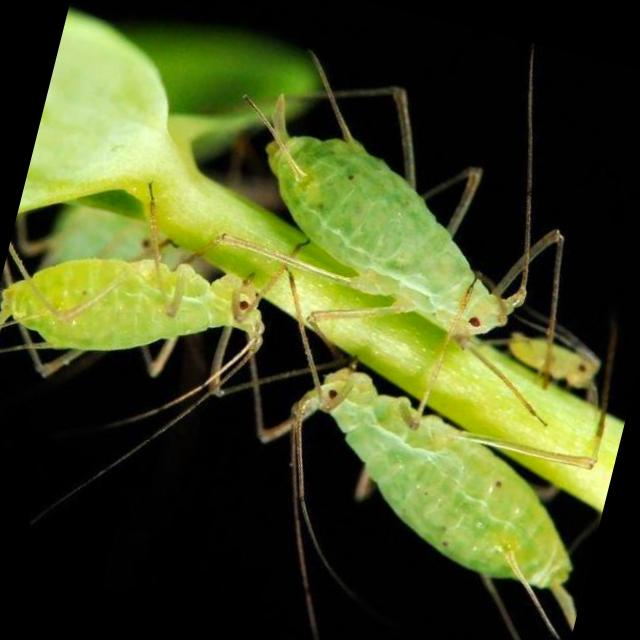aphid: (198, 63, 622, 424), (201, 322, 626, 640), (0, 178, 295, 424), (491, 306, 621, 398)
